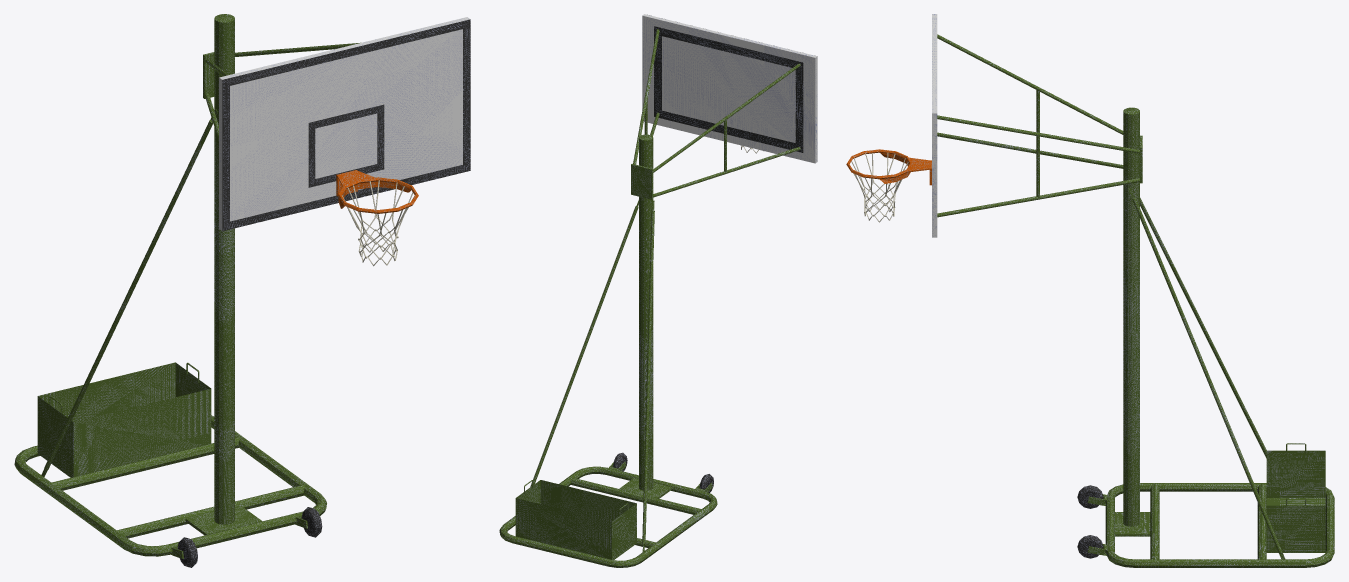
The picture shows the model from 3 angles, left to right: view 1: azimuth 30°, elevation 25°; view 2: azimuth 150°, elevation 25°; view 3: azimuth 270°, elevation 25°; orthographic projection. The views are drawn at different scales.
Visible parts, largest first — view 1: E001RING (×12); view 2: E001RING (×13); view 3: E001RING (×14).
Part boxes in pixels (x1,y1,x2,y2): E001RING (×12): (14,14,470,556); E001RING (×13): (499,14,817,567); E001RING (×14): (846,14,1334,567).
Bounding box in the file's own units: 72581 × 150713 × 160092.
